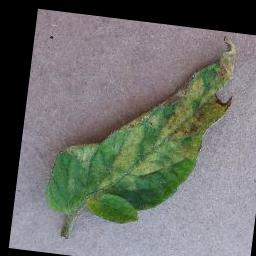Leaf_Mold: (94, 22, 240, 205), (62, 138, 101, 172)
